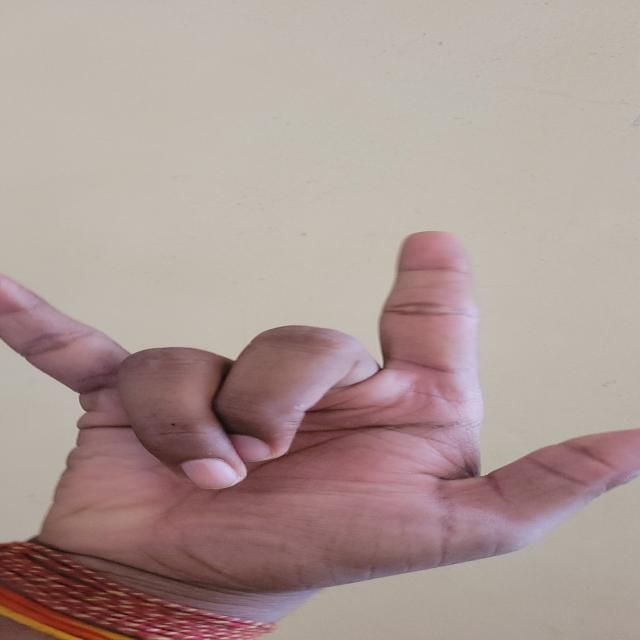i like you: (52, 218, 640, 588)
